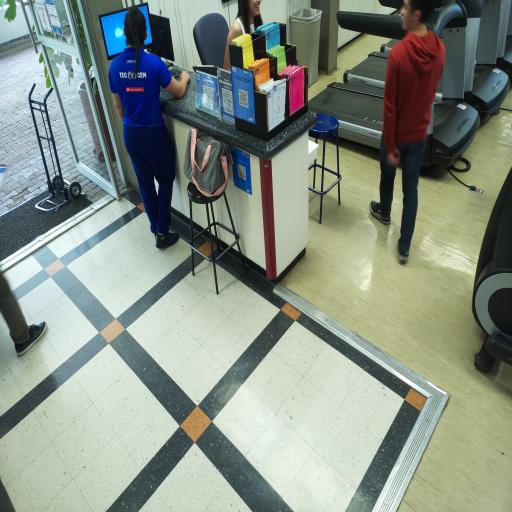person: (370, 0, 444, 262), (109, 7, 189, 248), (0, 272, 46, 356), (224, 0, 262, 70)
